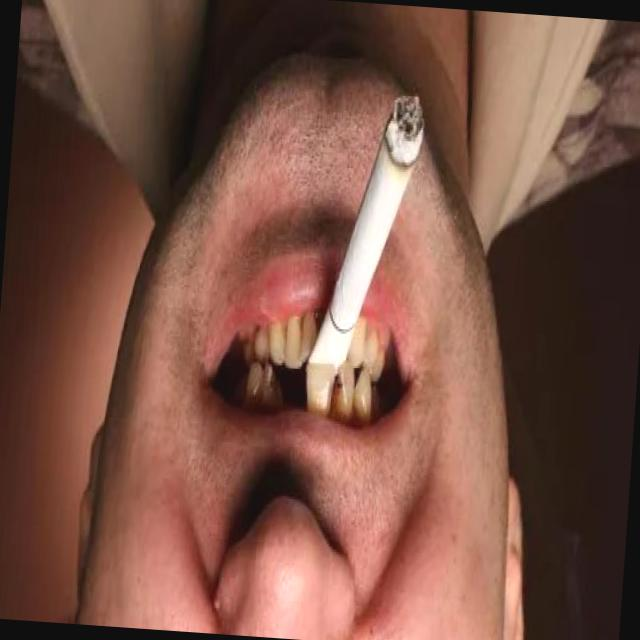cigarette: (300, 77, 433, 386)
